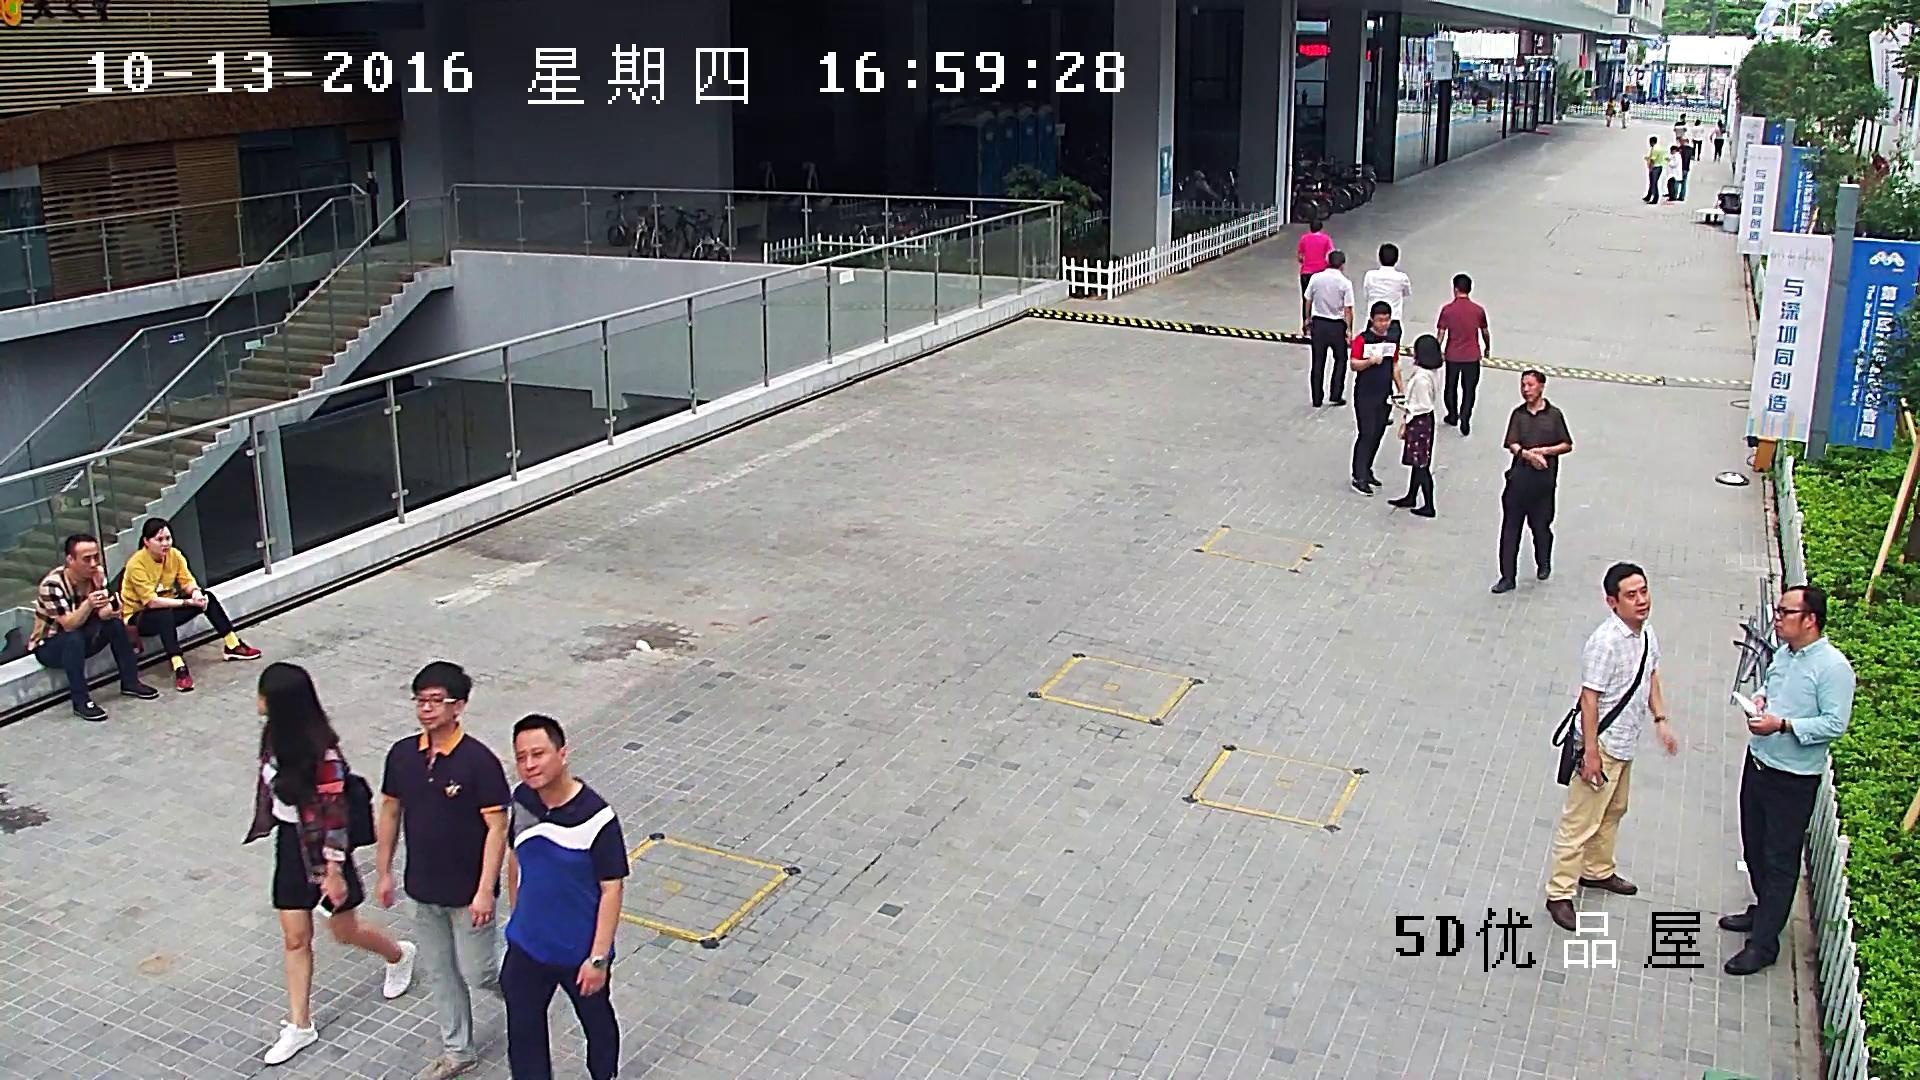person: (237, 660, 417, 1065), (374, 659, 512, 1080), (1717, 584, 1856, 976), (1542, 561, 1682, 932), (497, 713, 631, 1080), (24, 532, 160, 722), (120, 516, 262, 692), (1490, 368, 1573, 594), (1348, 299, 1406, 497), (1385, 333, 1444, 518), (1434, 271, 1491, 438), (1362, 241, 1412, 426), (1300, 248, 1355, 407), (1296, 215, 1337, 336), (1641, 135, 1663, 205), (1663, 144, 1683, 201), (1678, 136, 1693, 200), (1709, 118, 1728, 162), (1869, 150, 1892, 177), (1691, 118, 1704, 162), (1673, 112, 1689, 144), (1620, 93, 1630, 129), (1604, 99, 1617, 127)
